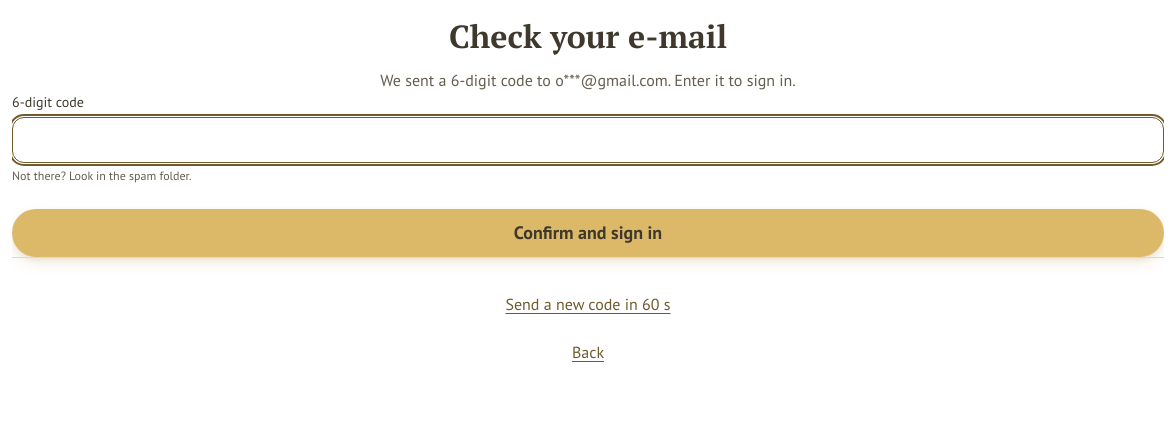
EmailCodeForm › refuses a short code without asking the server
Step 1. Type "123" into the field labelled "6-digit code" → (588, 140), box x1=12 y1=117 x2=1164 y2=163
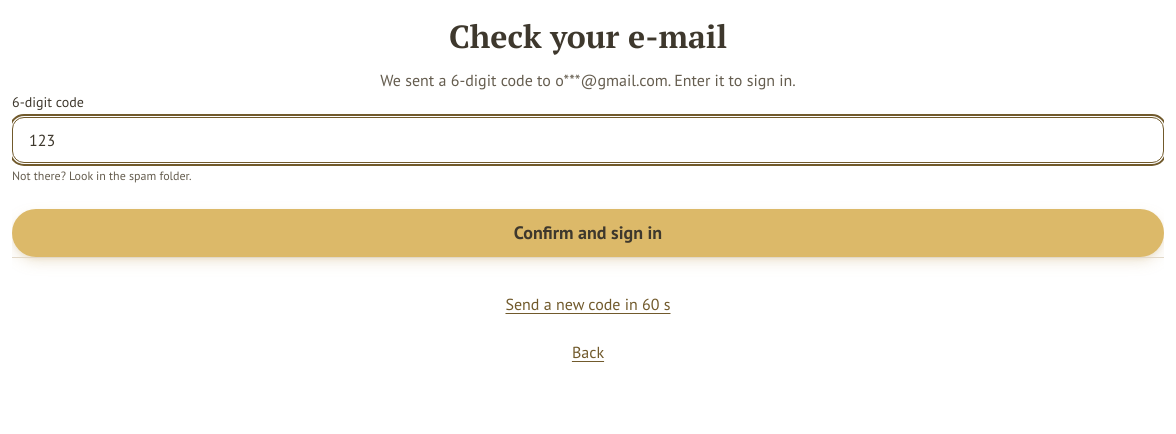
Step 2. Click the button "Confirm and sign in" → (588, 233), box x1=12 y1=209 x2=1164 y2=257
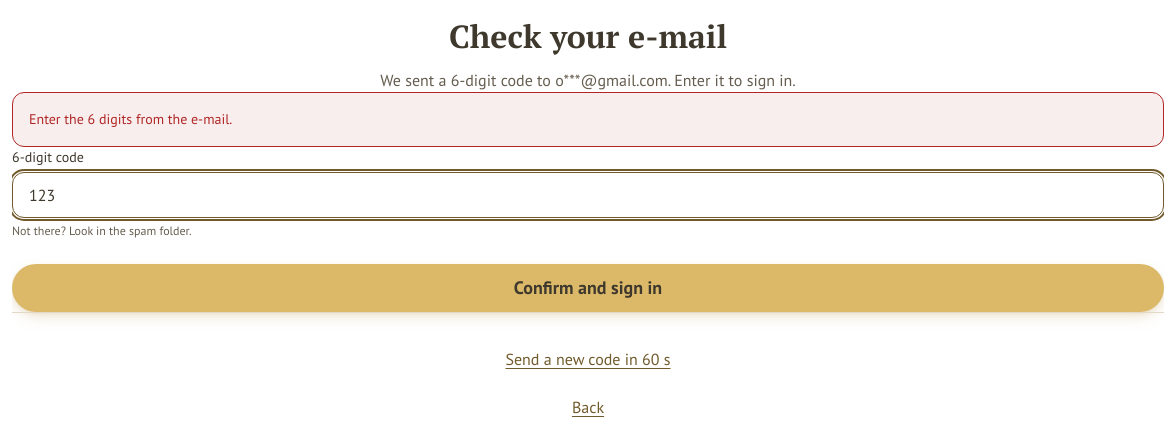
Expected: the message reads "Enter the 6 digits from the e-mail.", x1=29 y1=110 x2=232 y2=128
